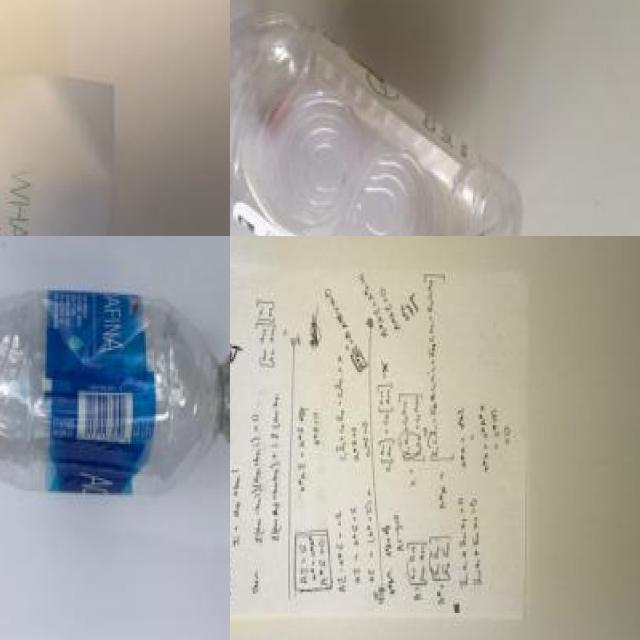paper: (230, 246, 534, 634), (0, 82, 117, 236)
plastic: (230, 0, 537, 236), (0, 279, 230, 496)
